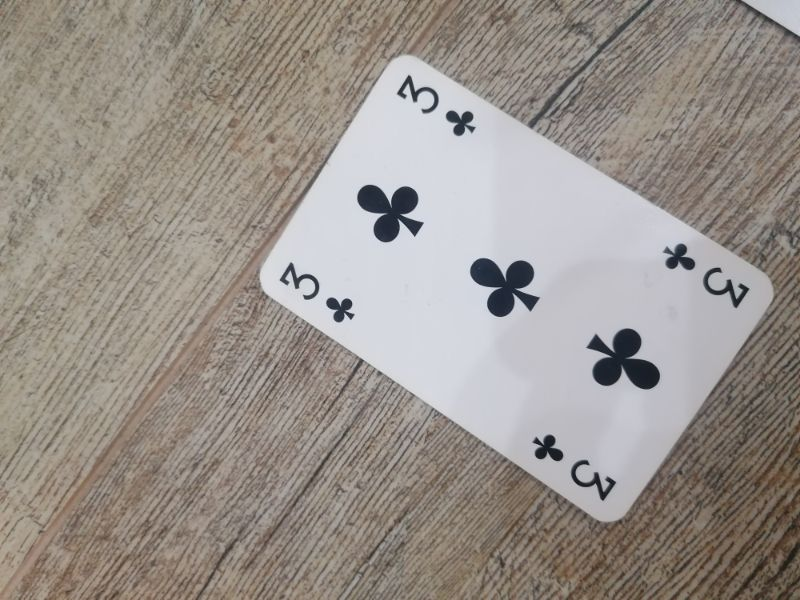3c: (658, 239, 752, 311), (530, 432, 619, 502), (393, 74, 479, 139), (275, 261, 358, 324)
